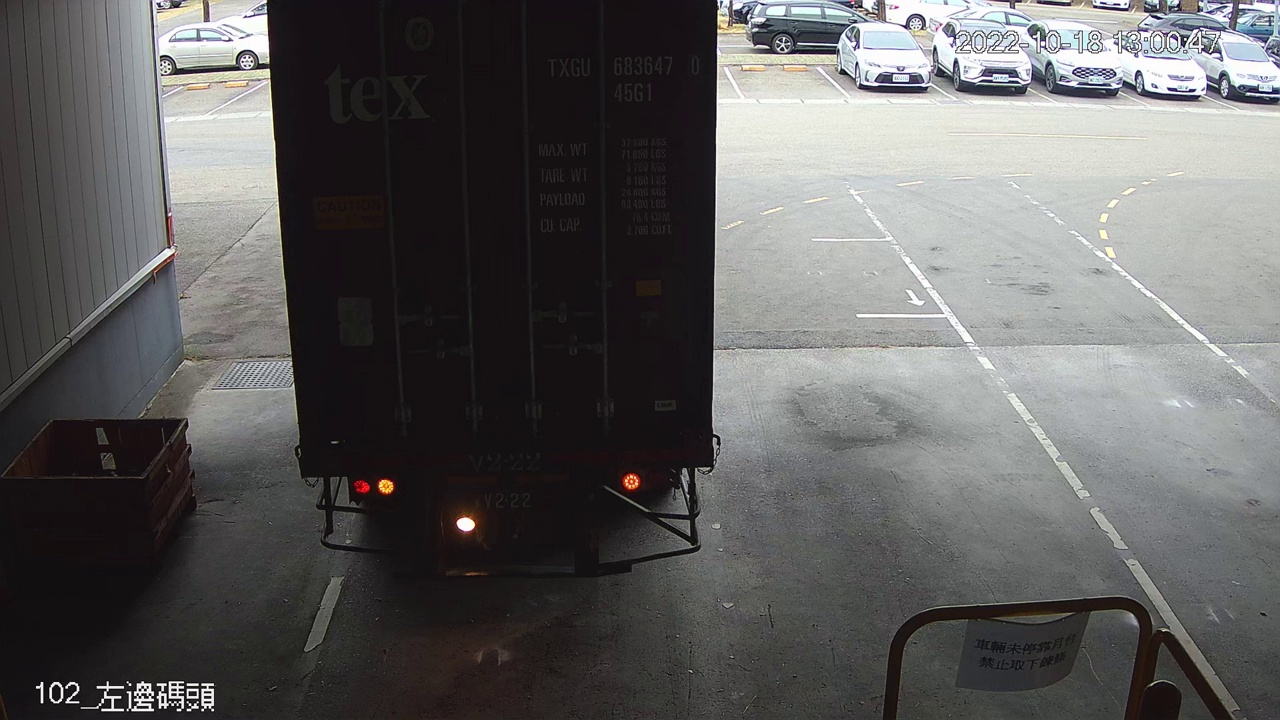container: (541, 45, 705, 108)
